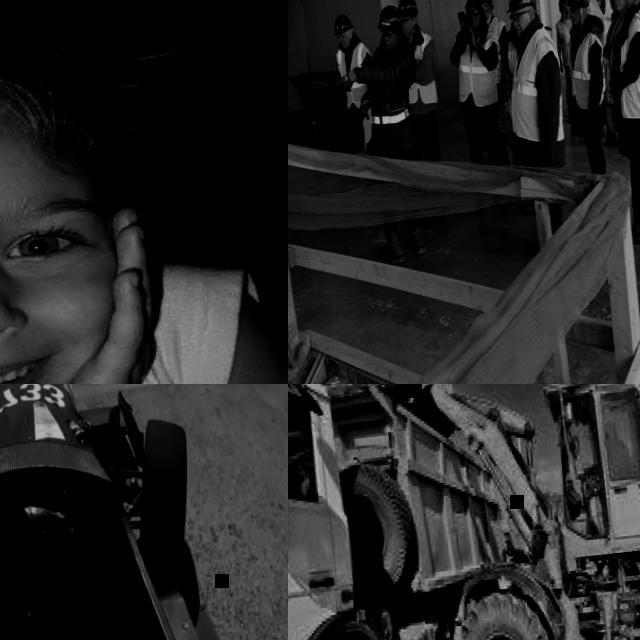Hardhat: (375, 2, 403, 32), (332, 14, 353, 36), (396, 0, 418, 17), (503, 0, 534, 12), (463, 0, 484, 12), (564, 0, 587, 8), (557, 0, 569, 11), (476, 0, 493, 4)
NO-Hardhat: (0, 13, 110, 227)
NO-Mask: (0, 261, 138, 384), (515, 22, 526, 38), (384, 40, 395, 52), (613, 0, 626, 10), (468, 18, 479, 28), (340, 39, 351, 48), (403, 26, 413, 34), (571, 16, 580, 24), (632, 0, 639, 5), (566, 6, 570, 12)
NO-Safety Vest: (0, 249, 288, 384)
Person: (0, 0, 288, 384), (326, 1, 432, 268), (492, 0, 580, 260), (443, 0, 514, 213), (591, 0, 640, 247), (554, 0, 616, 174), (330, 10, 386, 186), (395, 0, 445, 161), (474, 0, 520, 164), (580, 0, 627, 149), (551, 0, 581, 121), (582, 420, 629, 484), (630, 0, 640, 118), (504, 23, 522, 77)
Safety Vest: (501, 23, 569, 145), (363, 45, 421, 135), (451, 28, 506, 108), (563, 30, 610, 110), (610, 11, 640, 120), (334, 39, 378, 109), (400, 29, 439, 105), (484, 16, 512, 82), (585, 0, 616, 47), (554, 19, 573, 68)
vehicle: (319, 384, 640, 640), (288, 384, 536, 640), (0, 384, 230, 640)
